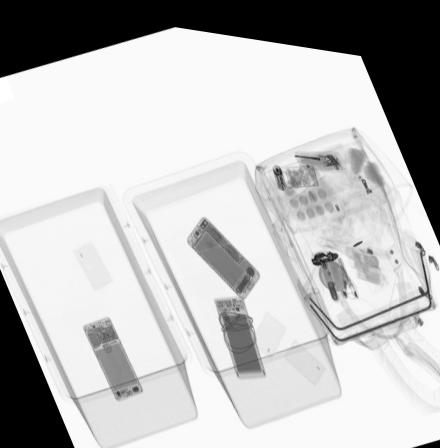Powerbank: (212, 287, 267, 370)
